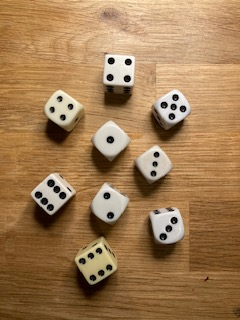five: (150, 87, 193, 132)
four: (43, 89, 86, 132), (101, 52, 136, 96)
one: (90, 120, 132, 162)
six: (73, 234, 119, 285), (29, 172, 78, 217)
three: (133, 145, 176, 188), (147, 205, 186, 247)
two: (88, 181, 130, 225)
